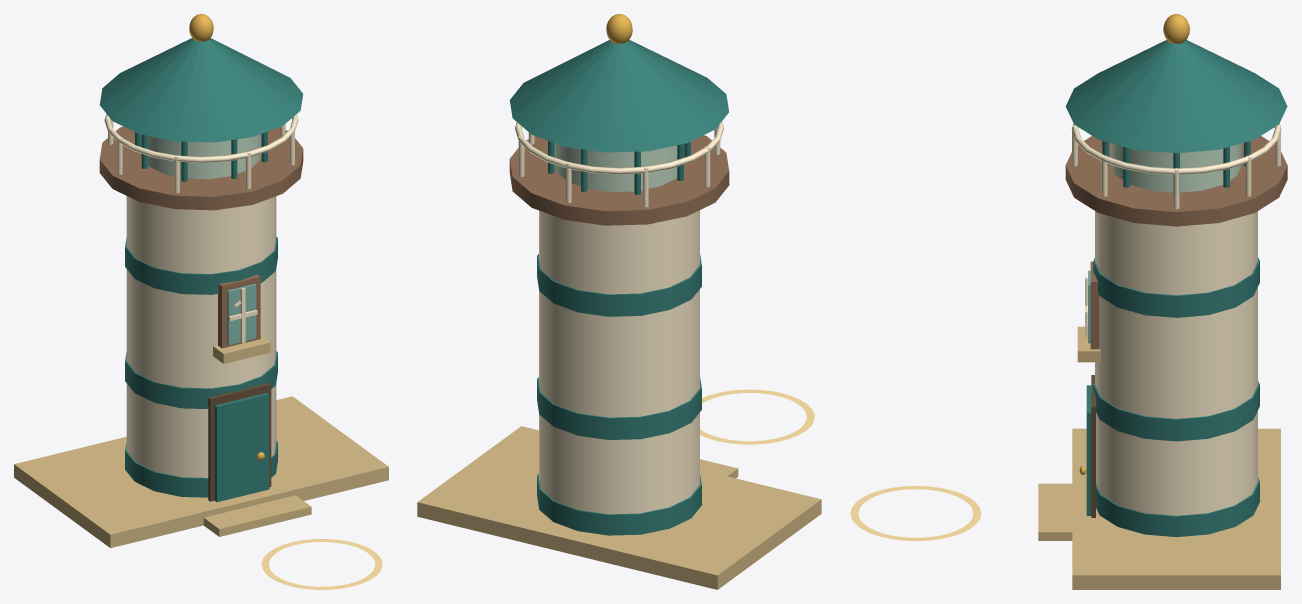
The model's file is ielts-lighthouse.glb.
3 renders of one model, left to right at view 1: azimuth 30°, elevation 25°; view 2: azimuth 150°, elevation 25°; view 3: azimuth 270°, elevation 25°, orthographic. The views are drawn at different scales.
Visible parts, largest first — view 1: ielts-lighthouse, door, chapter-marker; view 2: ielts-lighthouse, chapter-marker; view 3: ielts-lighthouse, chapter-marker, door.
Boxes of the visible parts, x1,y1,x2,y2 form: ielts-lighthouse: (14,14,388,548); door: (214,393,269,502); chapter-marker: (261,539,382,589); ielts-lighthouse: (417,14,821,589); chapter-marker: (700,389,814,444); ielts-lighthouse: (1038,14,1287,589); chapter-marker: (850,486,981,541); door: (1079,385,1091,515).
Bounding box in the file's own units: 2.6 × 4.14 × 3.27.
